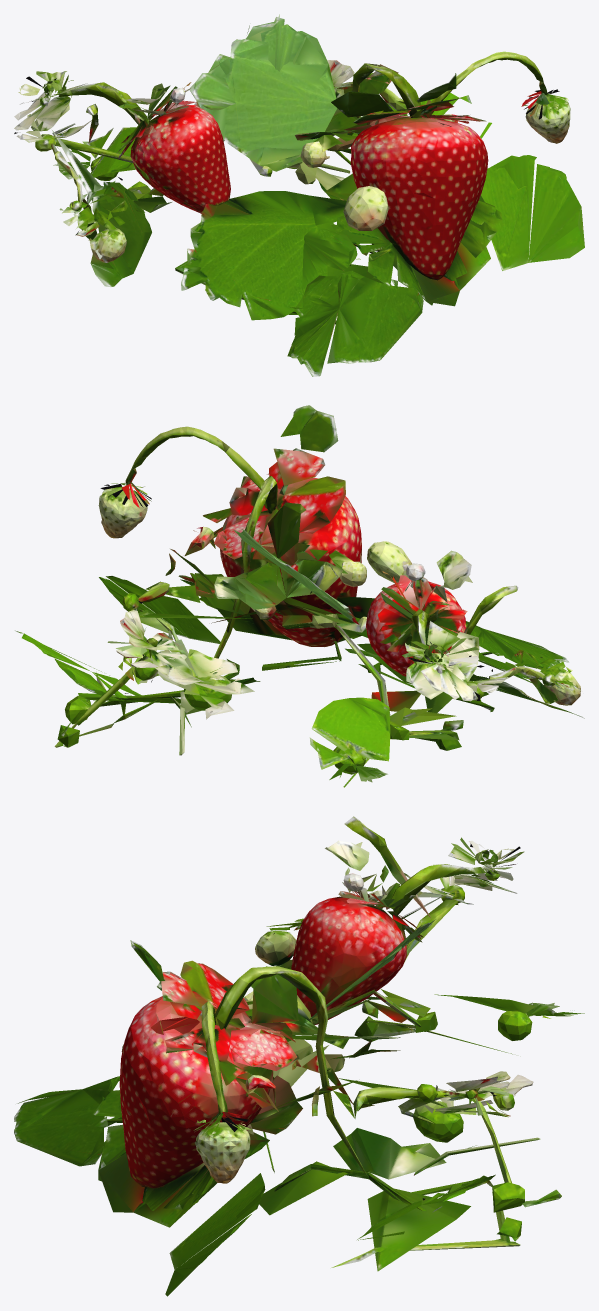
File: strawberry_4.glb
3 renders of one model, top to bottom at view 1: azimuth 30°, elevation 25°; view 2: azimuth 150°, elevation 25°; view 3: azimuth 270°, elevation 25°, orthographic. The views are drawn at different scales.
Visible parts, largest first — view 1: world; view 2: world; view 3: world.
Boxes of the visible parts, x1,y1,x2,y2 form: world: (14,14,584,376); world: (15,405,584,787); world: (14,816,584,1296).
Bounding box in the file's own units: 1.81 × 0.8223 × 1.56.
Materials: 1 (1 with a texture image).
